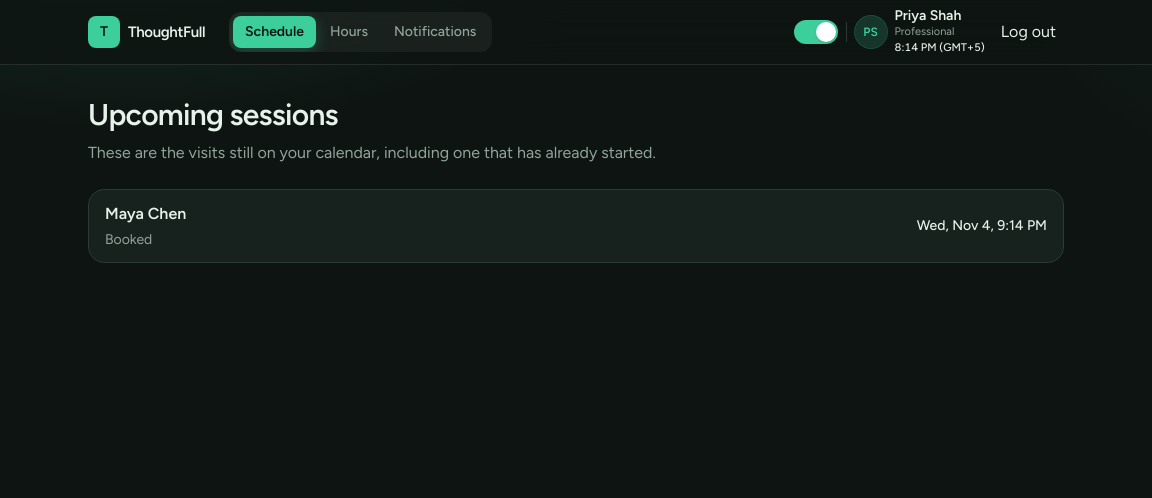
Test: booking screens › lets a professional cancel inside the member window and shows the member name
What coordinates should you click on to do the following:
click the link "Maya Chen Booked Wed, Nov 4, 9:14 PM"
I would click on:
 (146, 214)
Its box is [88,189,1064,263].
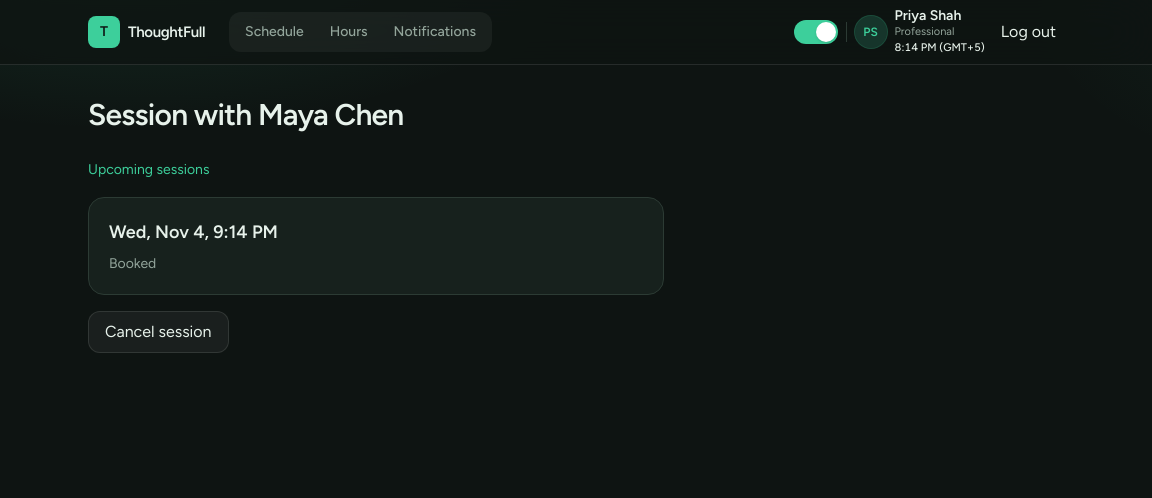
Now the heading "Session with Maya Chen" is shown, box [88,96,404,133]
What coordinates should you click on to do the following:
click the button "Cancel session"
I would click on:
 (158, 332)
Its box is [88,311,228,353].
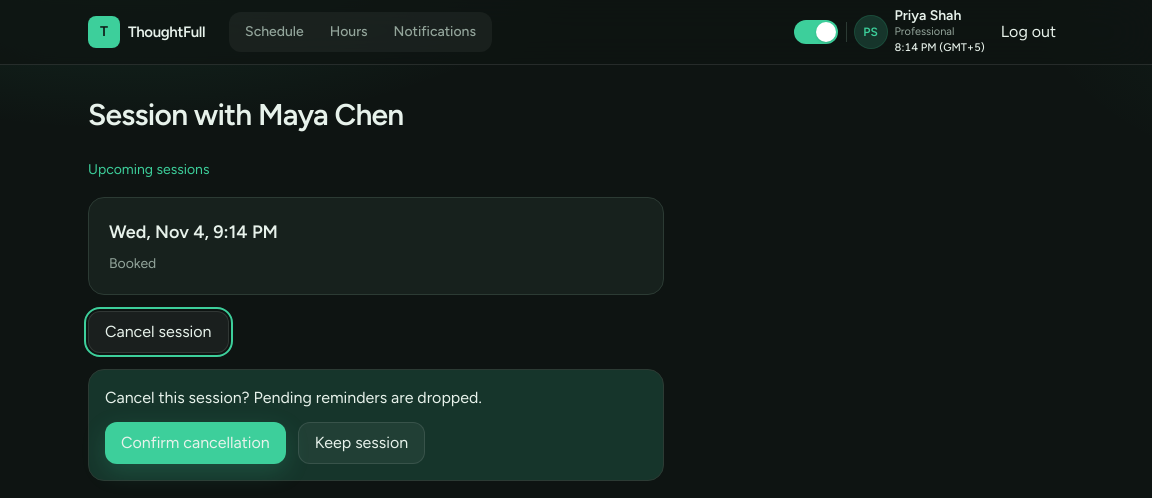
What coordinates should you click on to do the following:
click the button "Confirm cancellation"
I would click on:
 (195, 443)
Its box is [105,422,286,464].
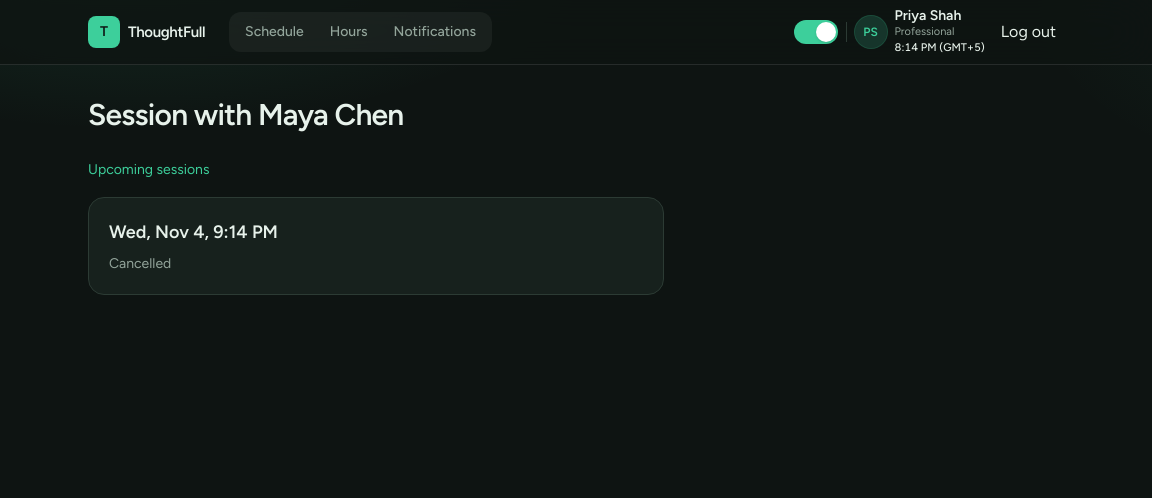
Now the text "Cancelled" is shown, box [109,255,171,272]
